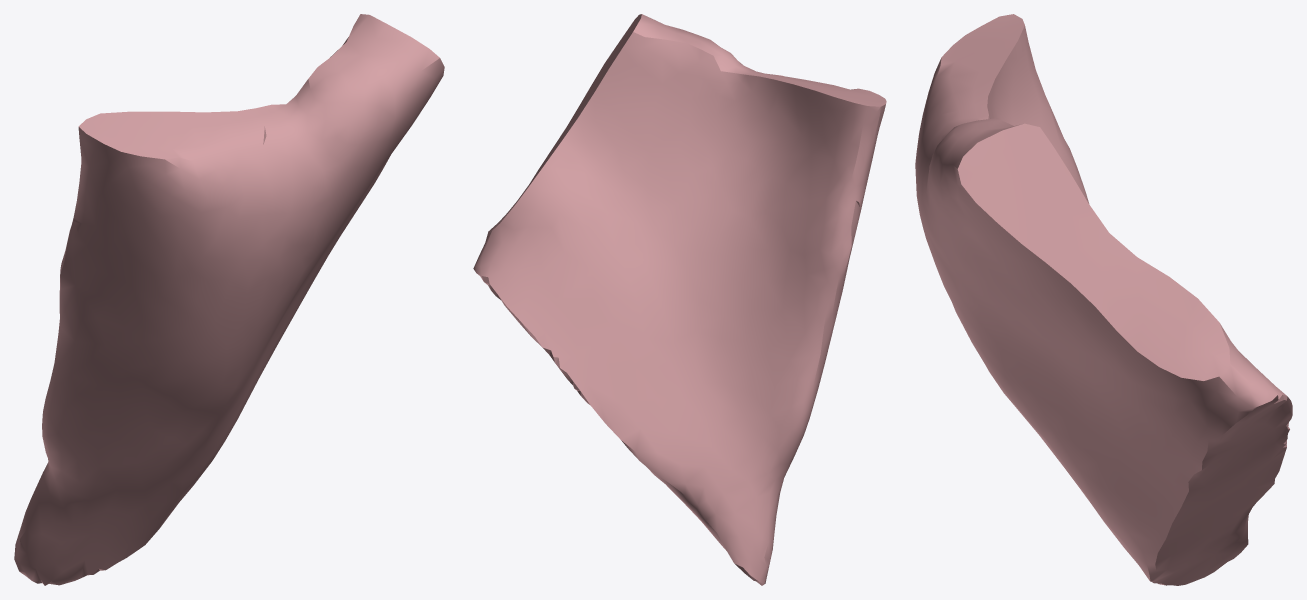
Rendered from fma78481-l_mm3491.glb.
The picture shows the model from 3 angles, left to right: view 1: azimuth 30°, elevation 25°; view 2: azimuth 150°, elevation 25°; view 3: azimuth 270°, elevation 25°; orthographic projection. The views are drawn at different scales.
Parts seen in each view (by area): view 1: FMA78481-L_MM3491; view 2: FMA78481-L_MM3491; view 3: FMA78481-L_MM3491.
Boxes of the visible parts, x1=… form: FMA78481-L_MM3491: x1=14, y1=14, x2=444, y2=585; FMA78481-L_MM3491: x1=473, y1=14, x2=886, y2=585; FMA78481-L_MM3491: x1=915, y1=14, x2=1292, y2=585.
Size of the model in its own units: 0.00369 by 0.00521 by 0.0031.
